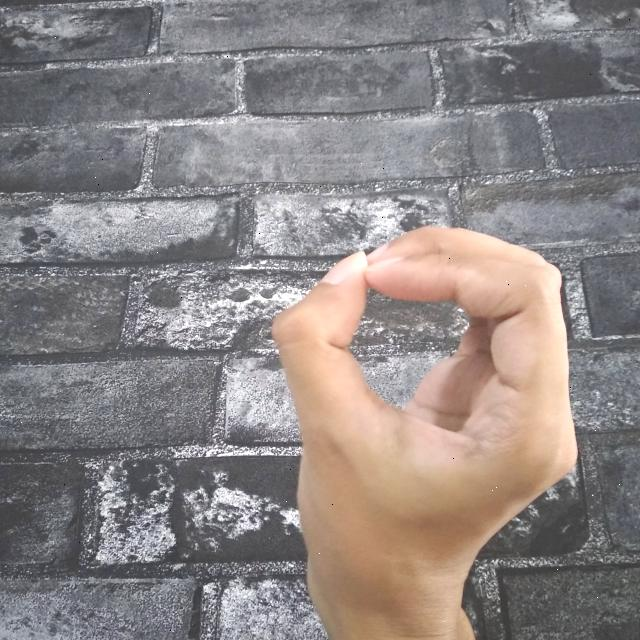O: (267, 215, 580, 640)
